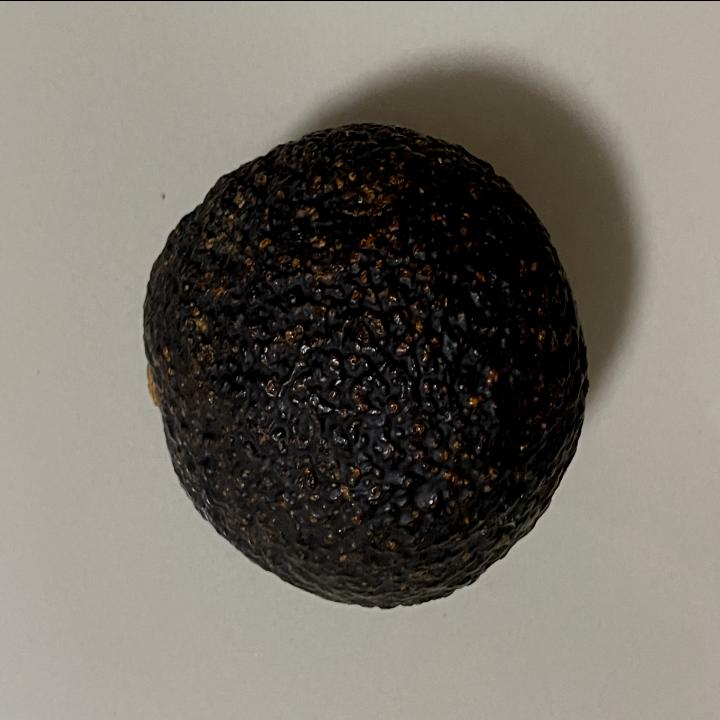Level2: (134, 112, 598, 619)
